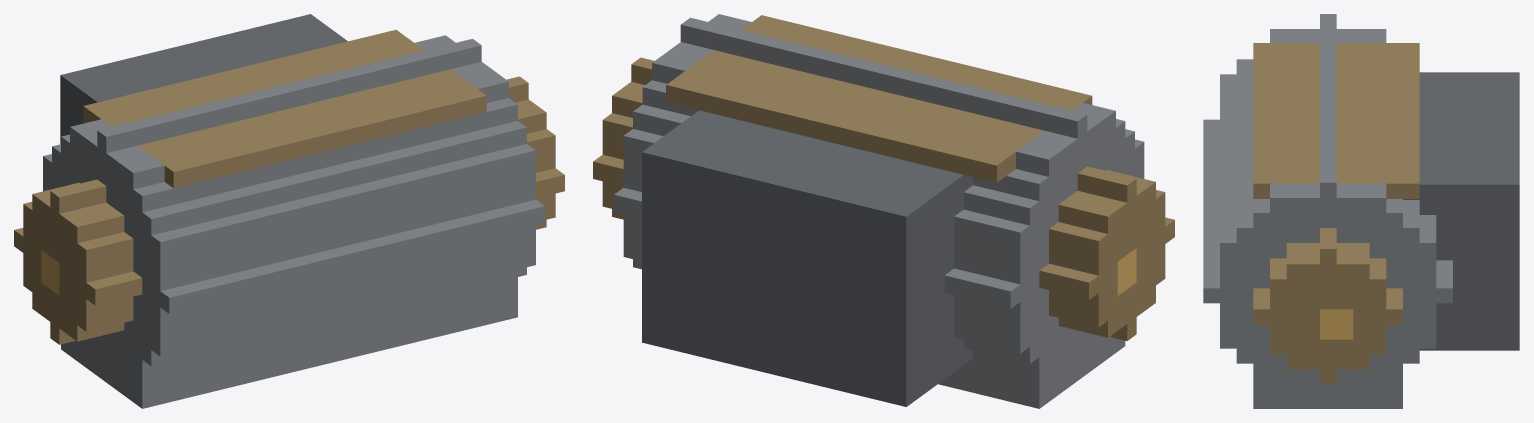
The model's file is cannon.glb.
3 views of the same model, side by side, from view 1: azimuth 30°, elevation 25°; view 2: azimuth 150°, elevation 25°; view 3: azimuth 270°, elevation 25° (orthographic). The views are drawn at different scales.
Size of the model in its own units: 30 by 15 by 19.
